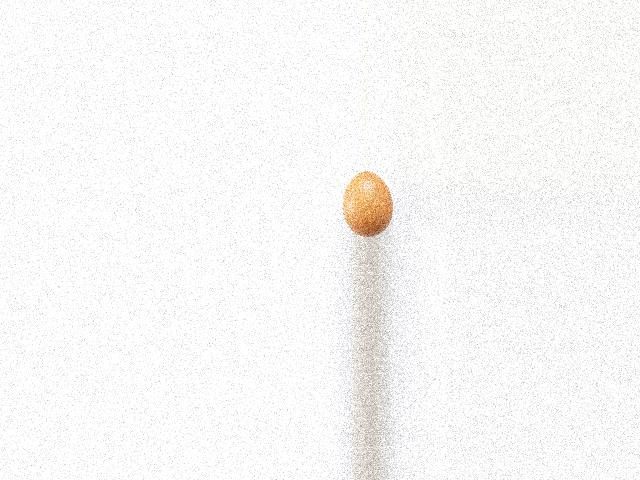egg: (343, 171, 393, 237)
